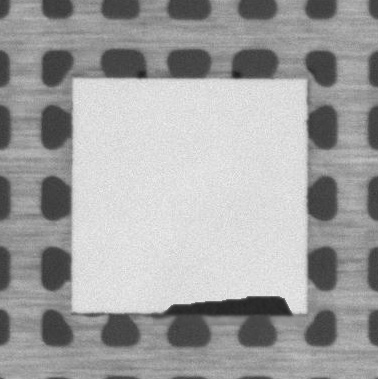DIE_BROKEN: (152, 294, 294, 316)
